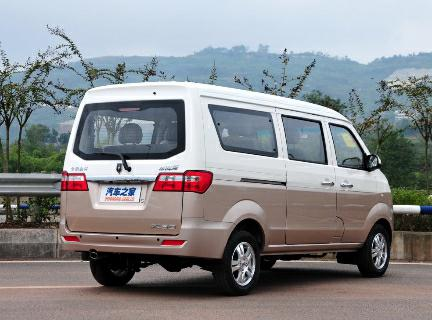金杯-小海狮X30: (56, 80, 399, 295)
